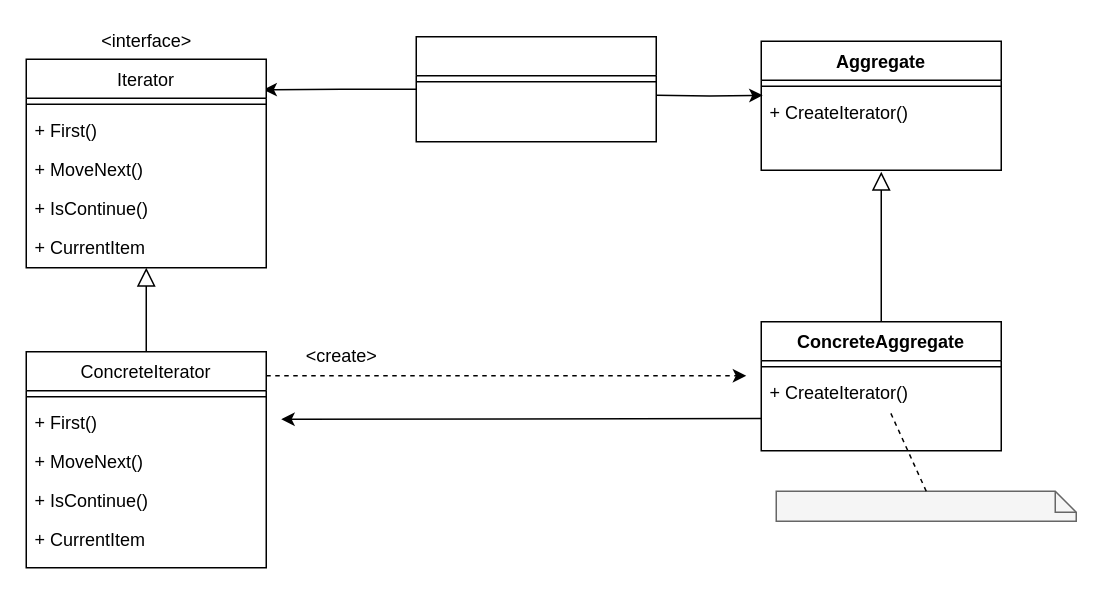
The diagram is 1103 pixels wide and 594 high, and some of its shapes have lost their labels. Each missing label, with the centre of its shape:
Client: the point at 535,88
return new ConcreteIterator(this): the point at 925,505
